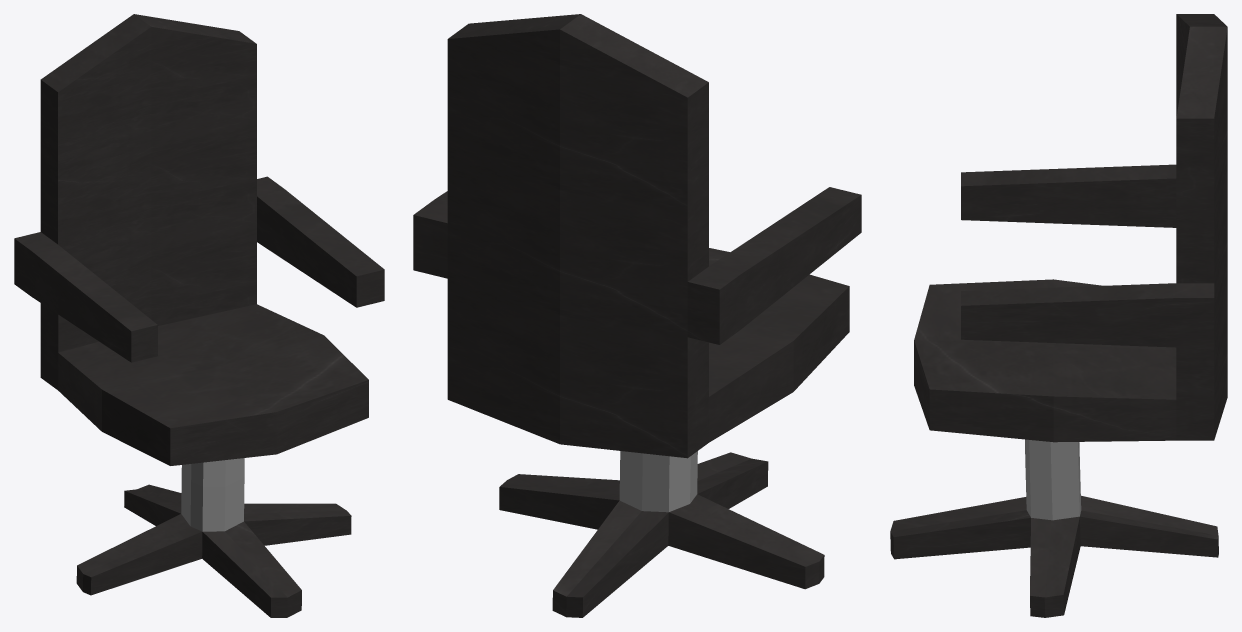
File: officeChair.glb
3 renders of one model, left to right at view 1: azimuth 30°, elevation 25°; view 2: azimuth 150°, elevation 25°; view 3: azimuth 270°, elevation 25°, orthographic. The views are drawn at different scales.
Visible parts, largest first — view 1: Cube; view 2: Cube; view 3: Cube.
Boxes of the visible parts, x1,y1,x2,y2 form: Cube: [14, 14, 384, 617]; Cube: [413, 14, 861, 617]; Cube: [890, 14, 1227, 617].
Bounding box in the file's own units: 3.95 × 7.06 × 4.09.
Materials: 2 (1 with a texture image).
